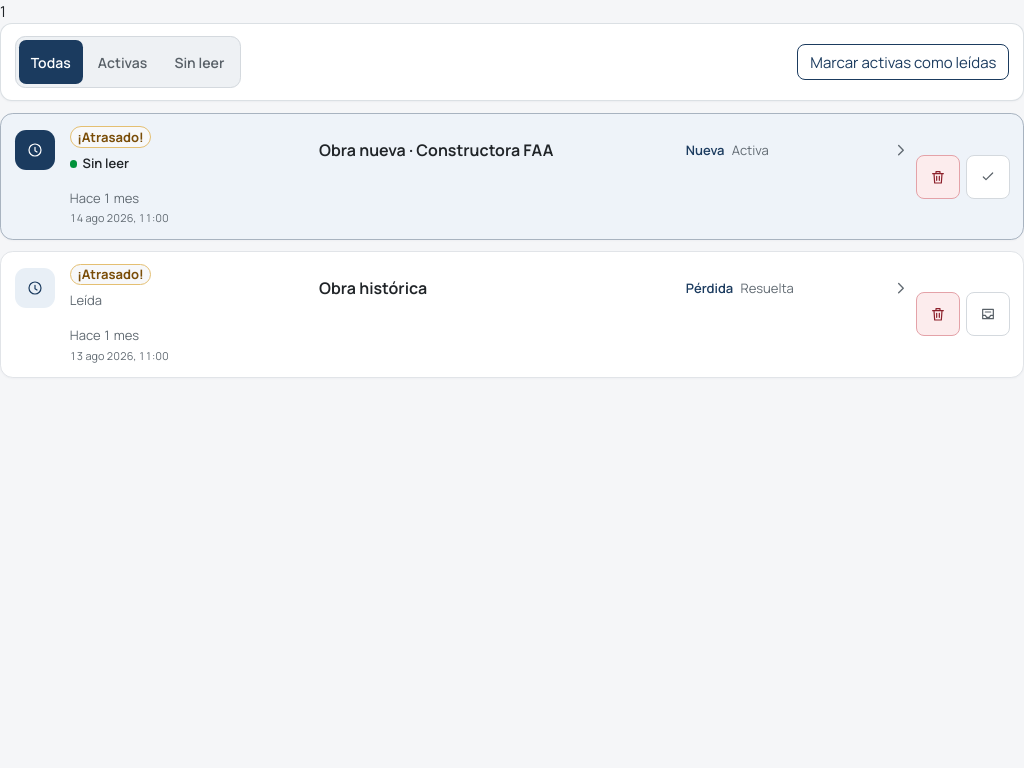
Scenario: NotificationsPage › confirms global deletion, removes the row, and reconciles unread attention
Click the button named "Eliminar notificación: ¡Atrasado! · Obra nueva · Constructora FAA": click(938, 177) [916,155,960,199]
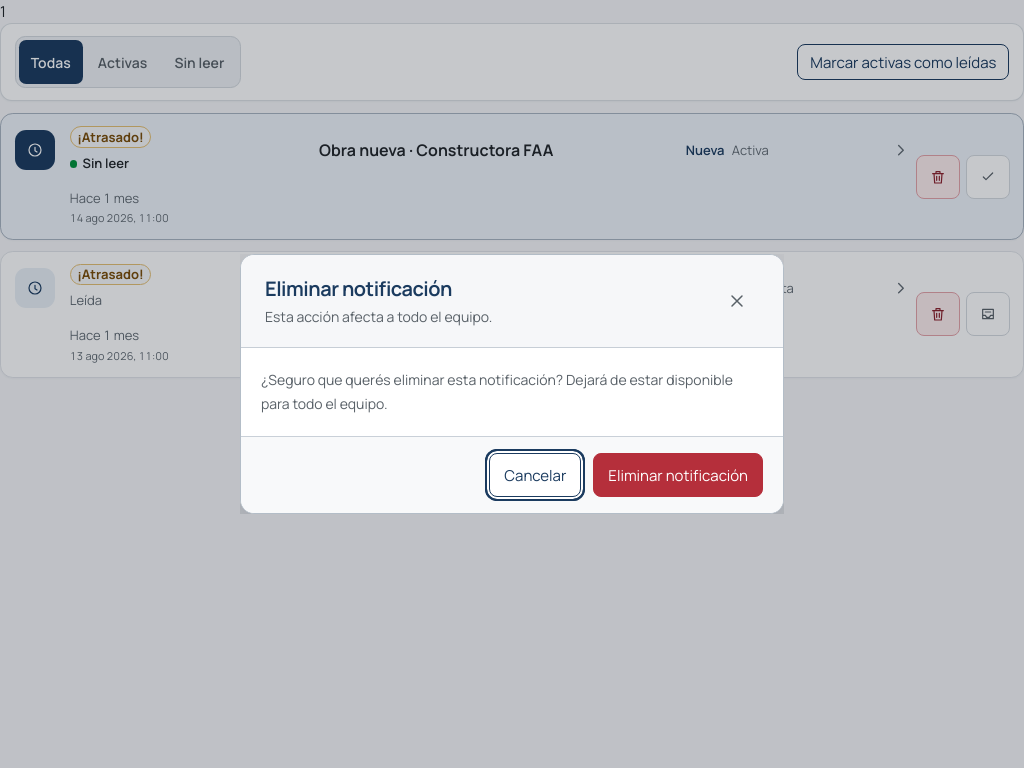
Expected: the dialog "Eliminar notificación" shows "Dejará de estar disponible para todo el equipo", [261,370,733,413]
Click the button "Eliminar notificación": click(678, 475) [593,453,763,497]
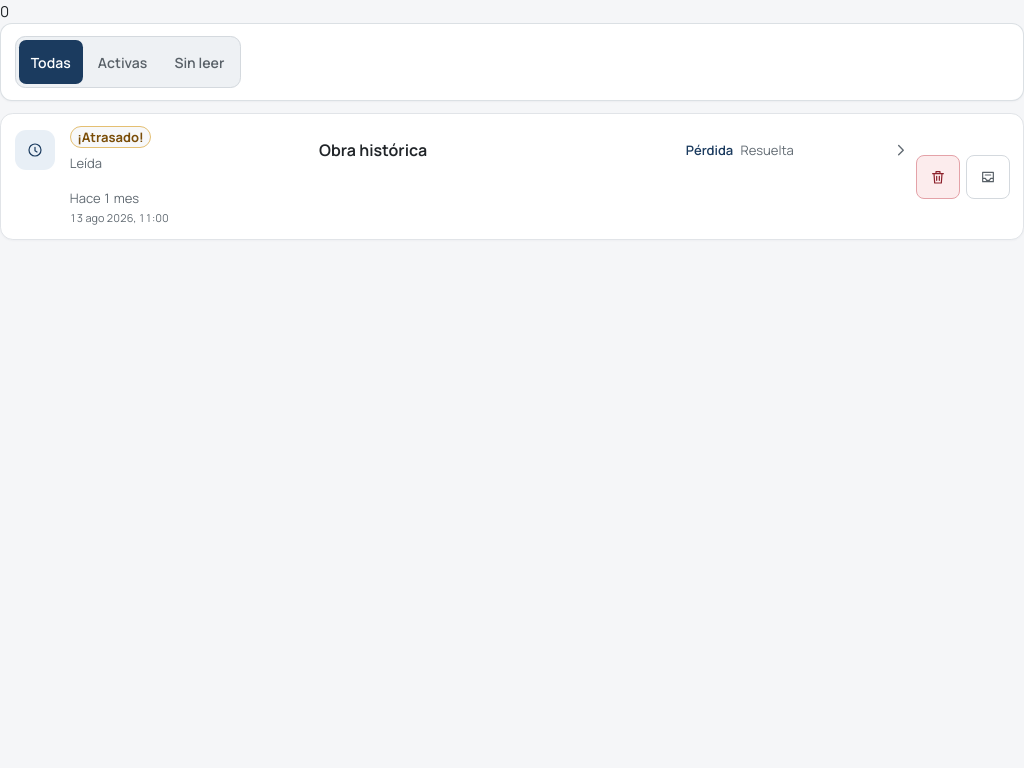
Expected: the text named "Contador sin leer" reads "0", [0,1,9,22]
